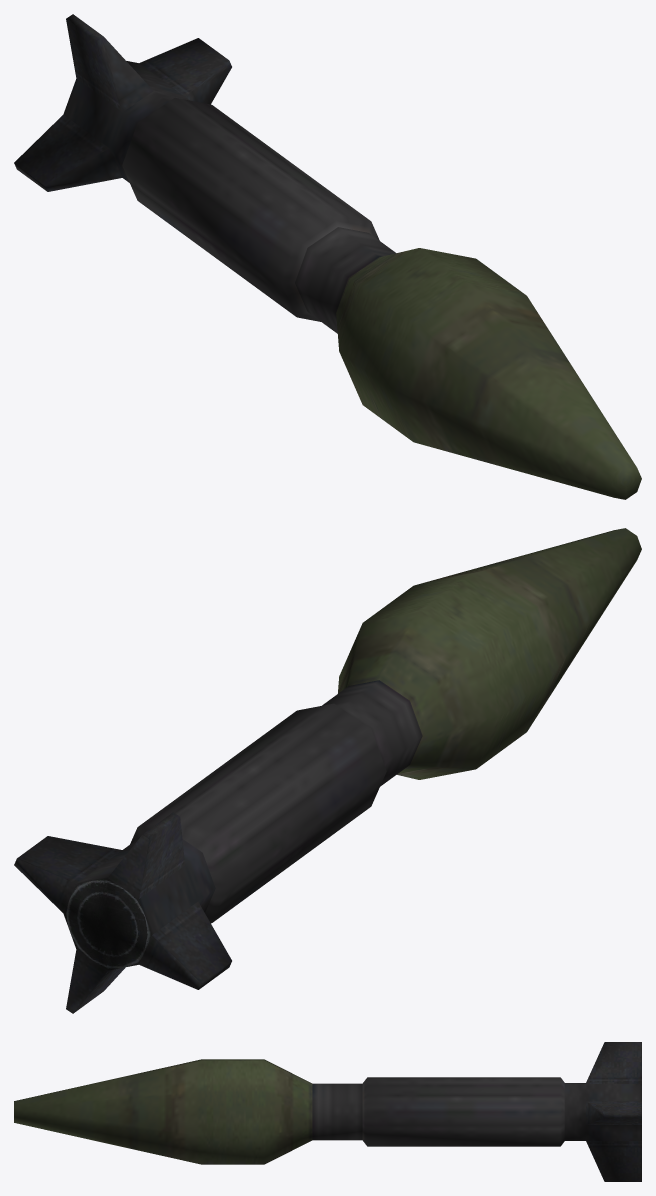
The model's file is bazookaBullet.obj.
3 renders of one model, top to bottom at view 1: azimuth 30°, elevation 25°; view 2: azimuth 150°, elevation 25°; view 3: azimuth 270°, elevation 25°, orthographic. The views are drawn at different scales.
Parts seen in each view (by area): view 1: Mesh; view 2: Mesh; view 3: Mesh.
Boxes of the visible parts, box(x1,y1,x2,y2) form: Mesh: box(14, 14, 641, 499); Mesh: box(14, 528, 641, 1013); Mesh: box(14, 1042, 641, 1181).
Bounding box in the file's own units: 0.0541 × 0.0541 × 0.2591.
Materials: 1 (1 with a texture image).
